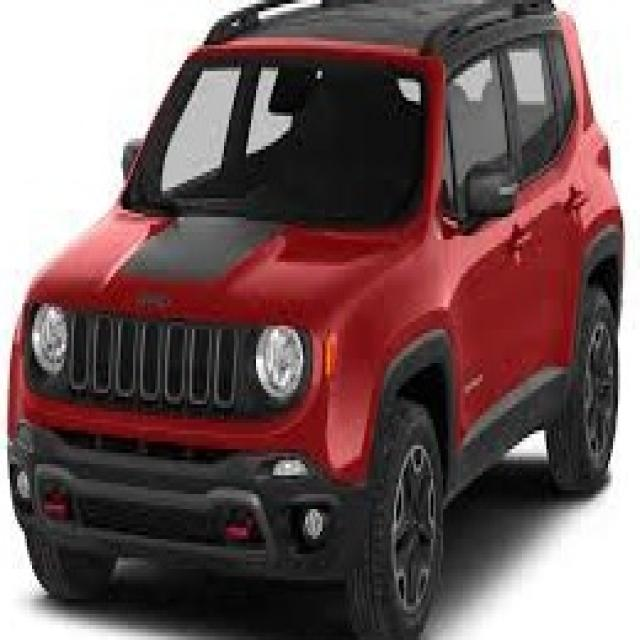maroon: (19, 10, 609, 523)
